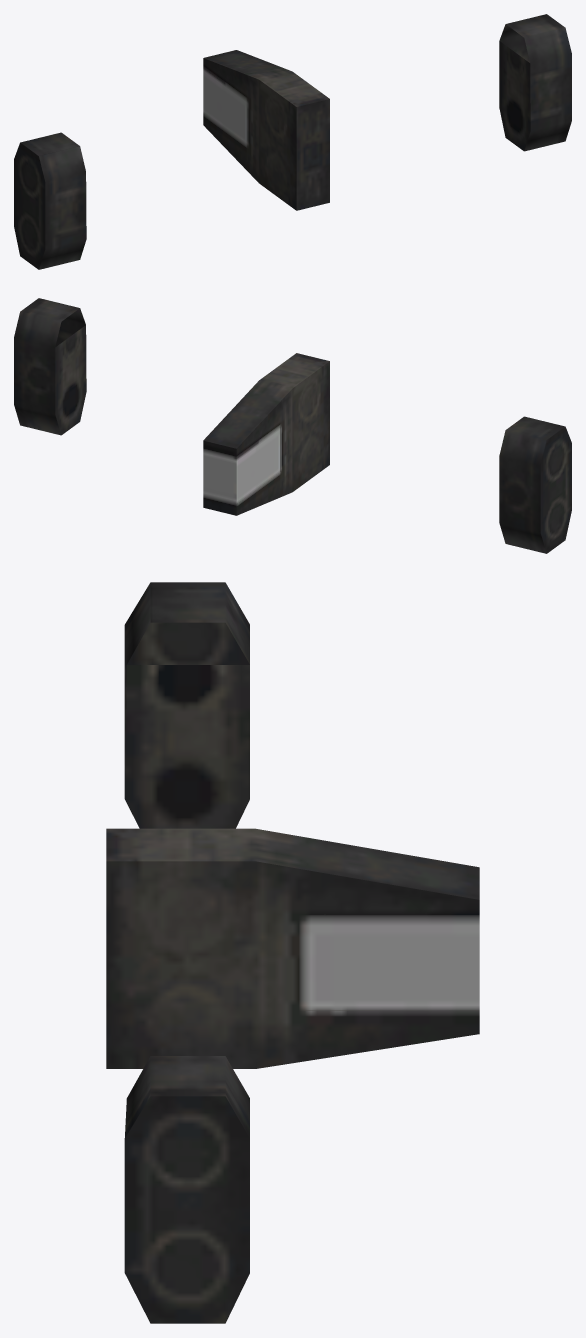
Rendered from segment_02_pair_1.glb.
3 views of the same model, one above another, from view 1: azimuth 30°, elevation 25°; view 2: azimuth 150°, elevation 25°; view 3: azimuth 270°, elevation 25° (orthographic). The views are drawn at different scales.
Visible parts, largest first — view 1: set_0_group_0; view 2: set_0_group_0; view 3: set_0_group_0.
Part boxes in pixels (<box>): set_0_group_0: <box>14,14,571,269</box>; set_0_group_0: <box>14,298,571,553</box>; set_0_group_0: <box>106,582,479,1323</box>.
Bounding box in the file's own units: 0.6016 × 0.1241 × 0.1847.
1 material, 1 textured.
